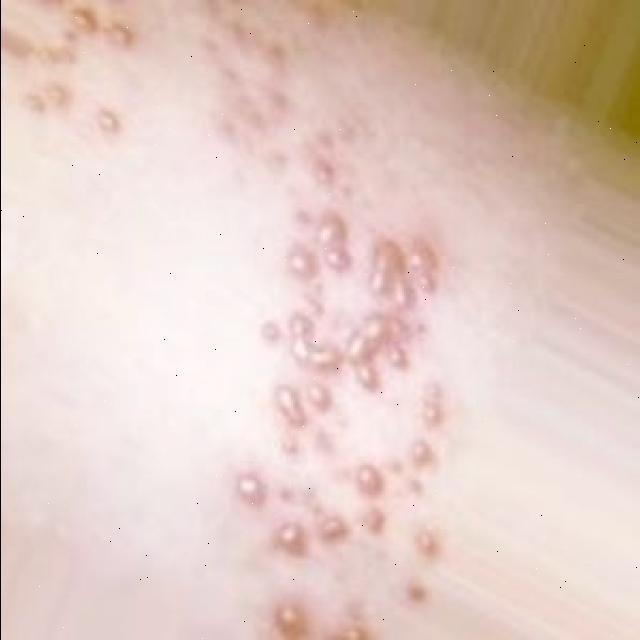Shingles: (232, 192, 452, 638), (7, 5, 137, 140)
